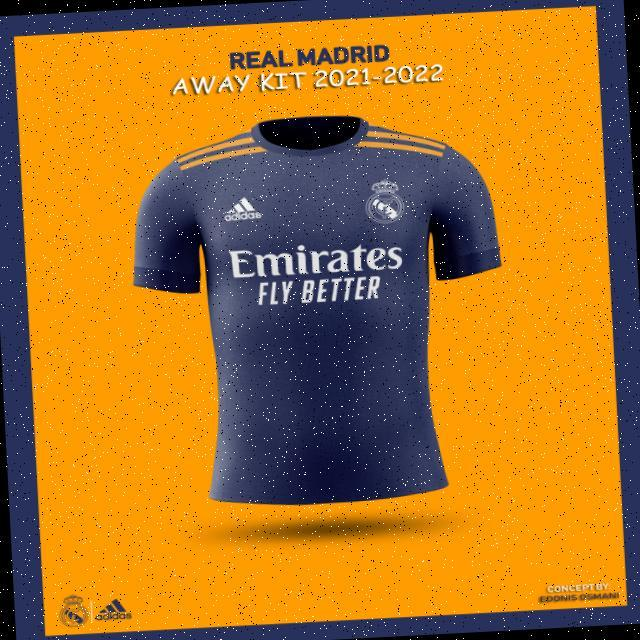Adidas: (222, 195, 263, 223)
Emirates: (228, 237, 406, 281)
